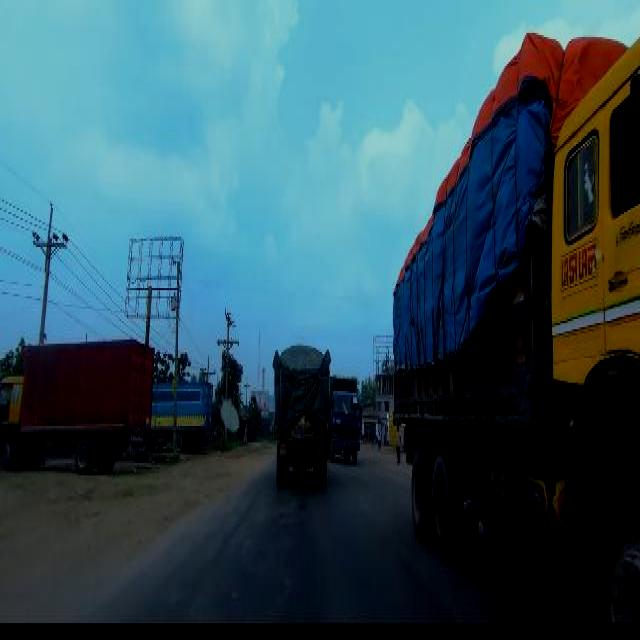TRUCK: (382, 33, 639, 613), (1, 337, 153, 476)
